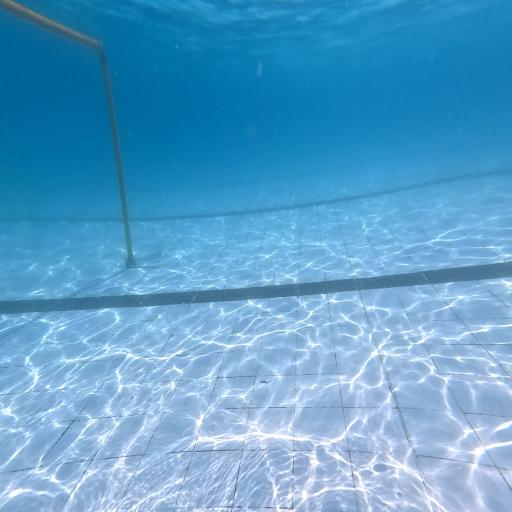gate: (0, 0, 161, 268)
